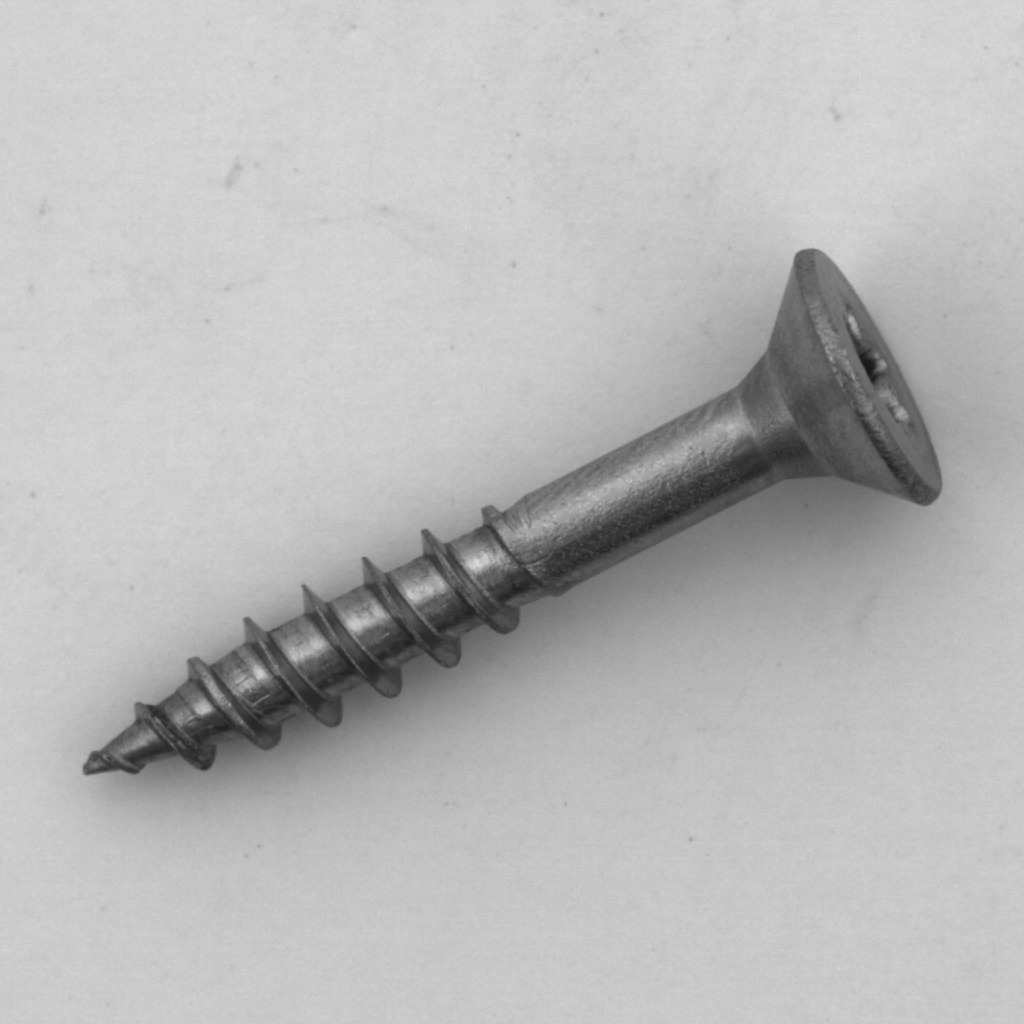good: (51, 228, 966, 809)
